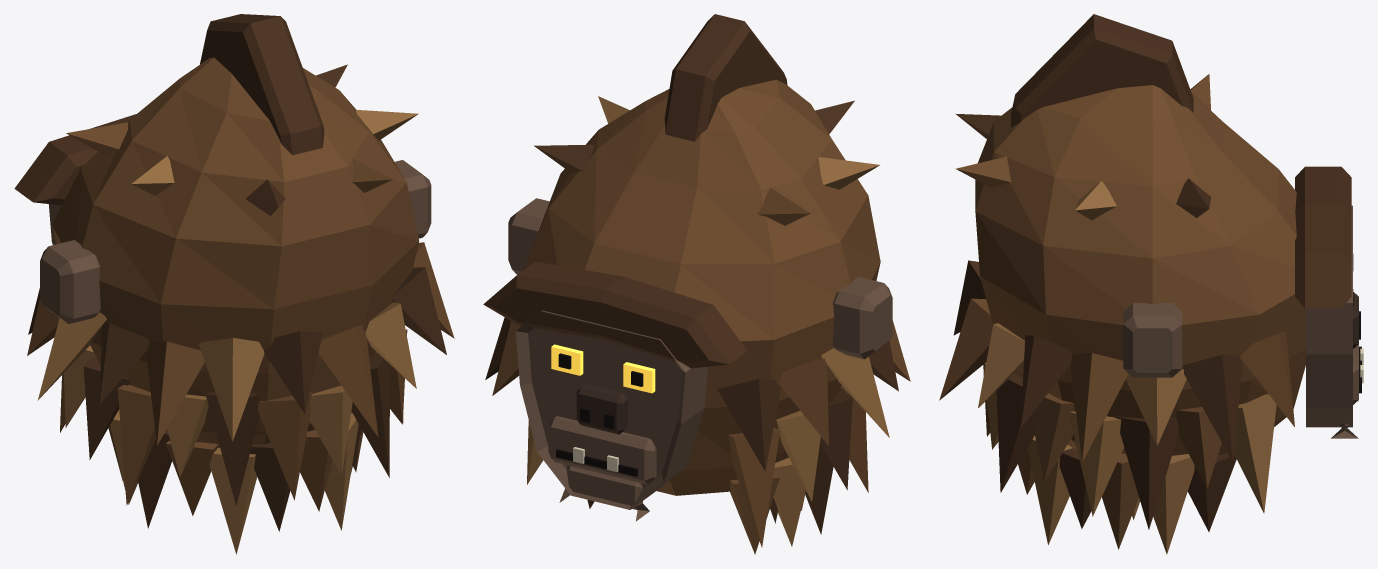
File: bigfoot_head.glb
The picture shows the model from 3 angles, left to right: view 1: azimuth 30°, elevation 25°; view 2: azimuth 150°, elevation 25°; view 3: azimuth 270°, elevation 25°; orthographic projection.
Parts seen in each view (by area): view 1: bigfoot_head; view 2: bigfoot_head; view 3: bigfoot_head.
Boxes of the visible parts, x1,y1,x2,y2 form: bigfoot_head: (14, 14, 454, 554); bigfoot_head: (483, 14, 910, 554); bigfoot_head: (939, 14, 1363, 554).
Size of the model in its own units: 0.8826 by 1.12 by 0.8651.
